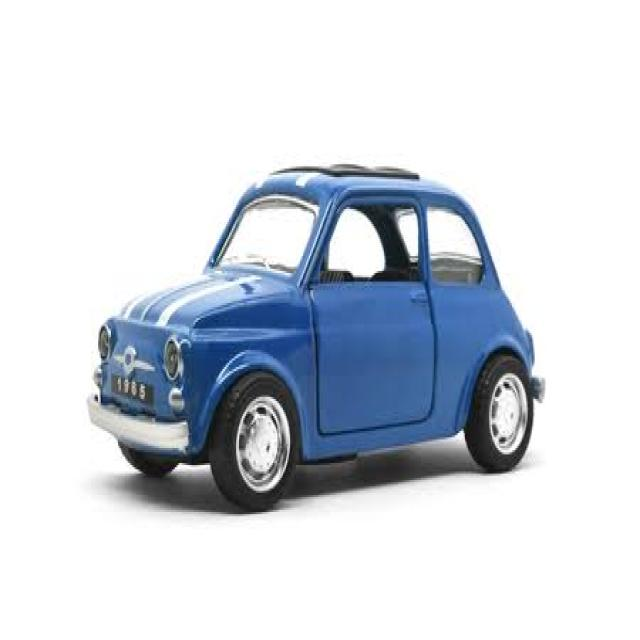Car: (85, 160, 545, 512)
